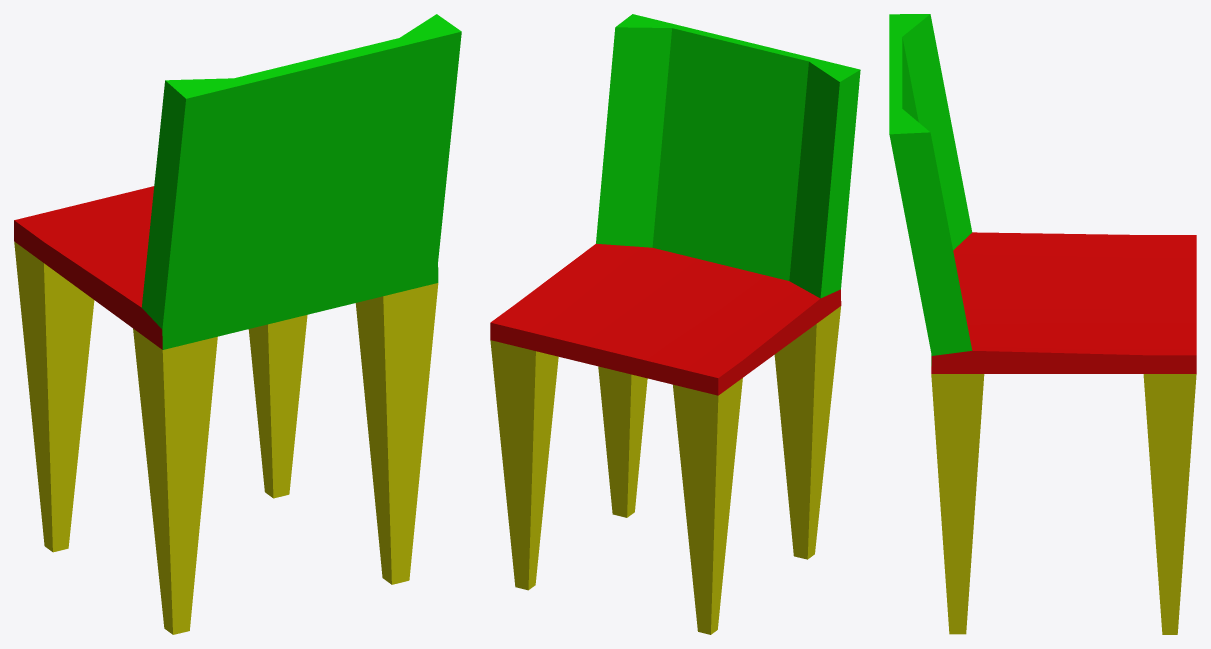
File: Chair.fbx
The picture shows the model from 3 angles, left to right: view 1: azimuth 30°, elevation 25°; view 2: azimuth 150°, elevation 25°; view 3: azimuth 270°, elevation 25°; orthographic projection. The views are drawn at different scales.
Parts seen in each view (by area): view 1: Chair; view 2: Chair; view 3: Chair.
Part boxes in pixels (left/top/right/bottom): Chair: left=14, top=14, right=461, bottom=634; Chair: left=490, top=14, right=860, bottom=634; Chair: left=889, top=14, right=1196, bottom=634.
Bounding box in the file's own units: 0.45 × 0.8923 × 0.4862.
